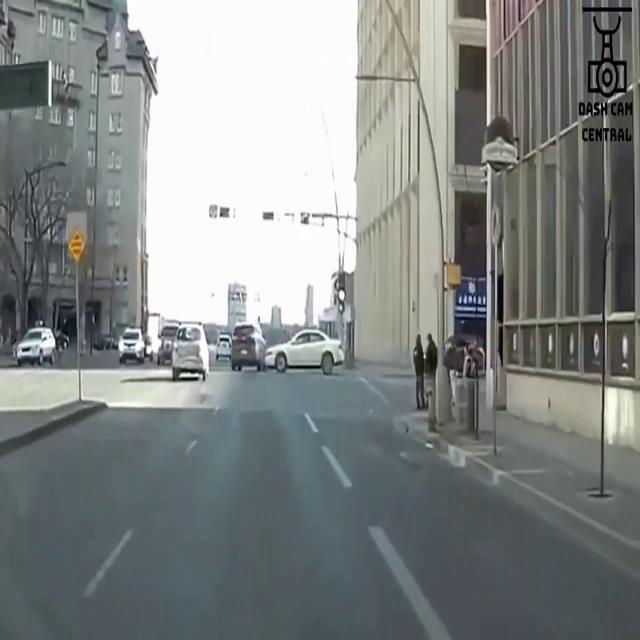accident: (229, 317, 345, 375)
